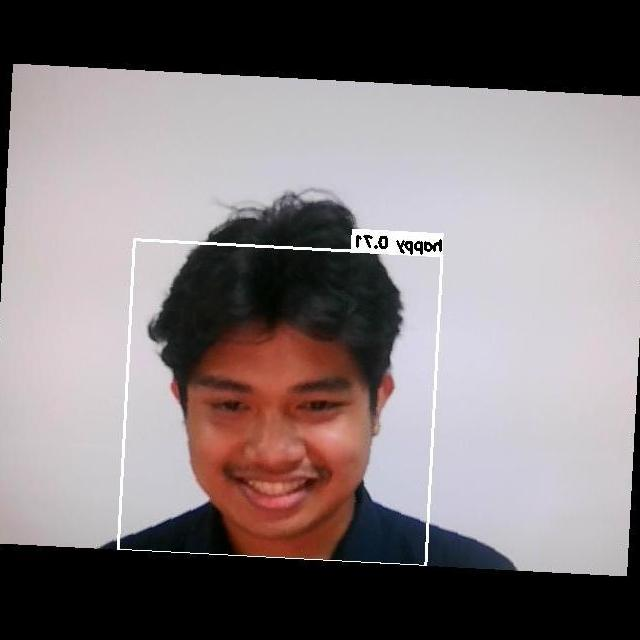Happy: (173, 340, 362, 525)
